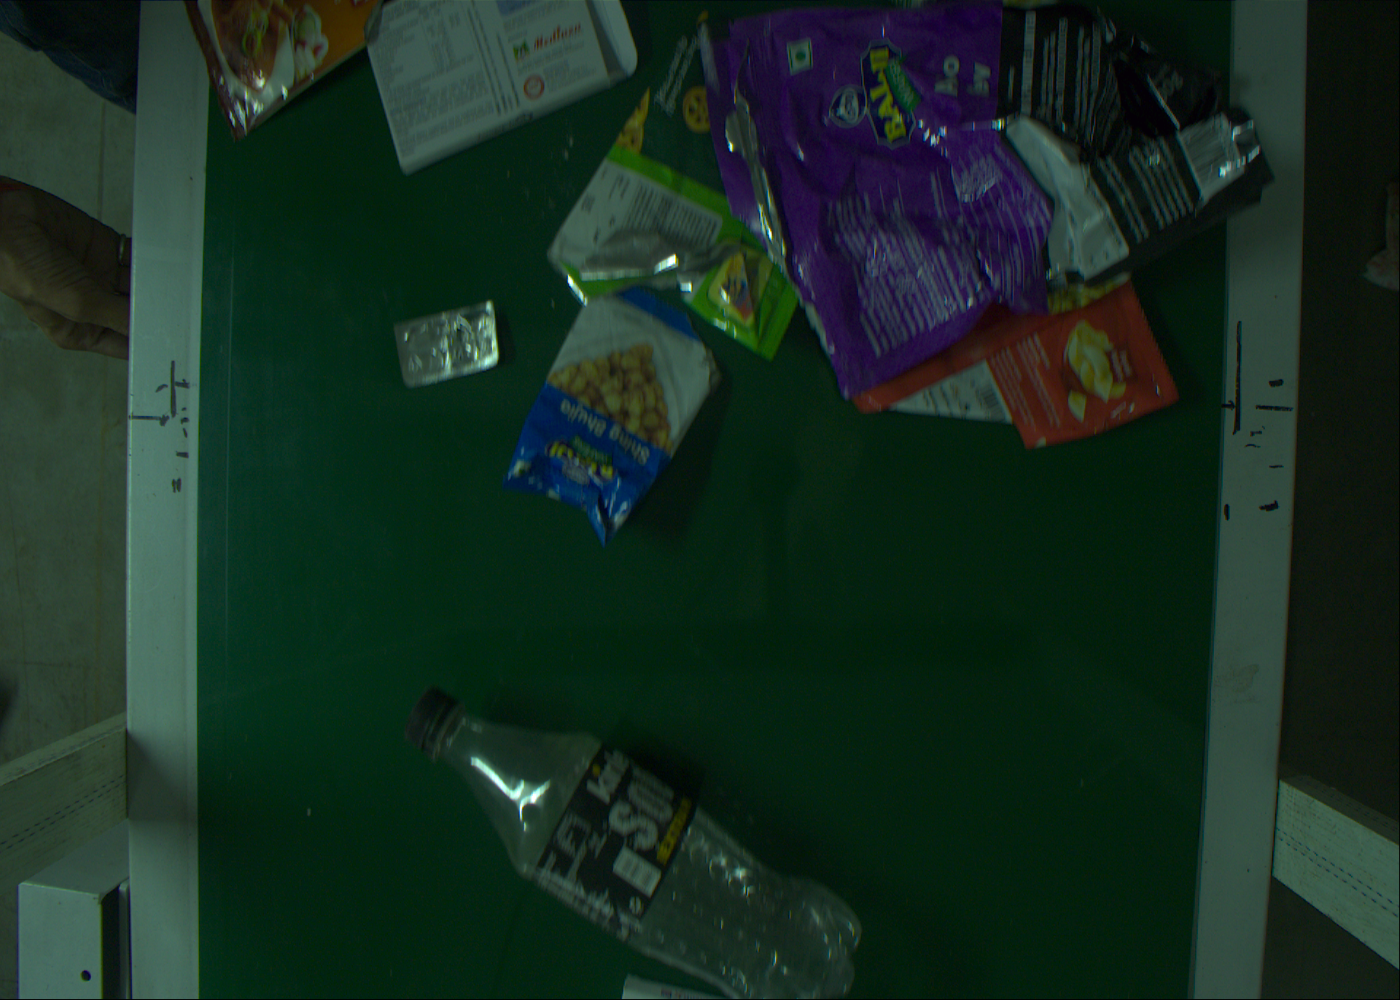aluminium_foil: (390, 295, 502, 388)
cardboard: (354, 1, 649, 168)
multilayer_plastic: (721, 1, 1273, 363), (545, 3, 806, 368), (511, 295, 720, 548), (850, 297, 1191, 445), (184, 1, 364, 137)
pet_bottle: (407, 687, 863, 1000)
